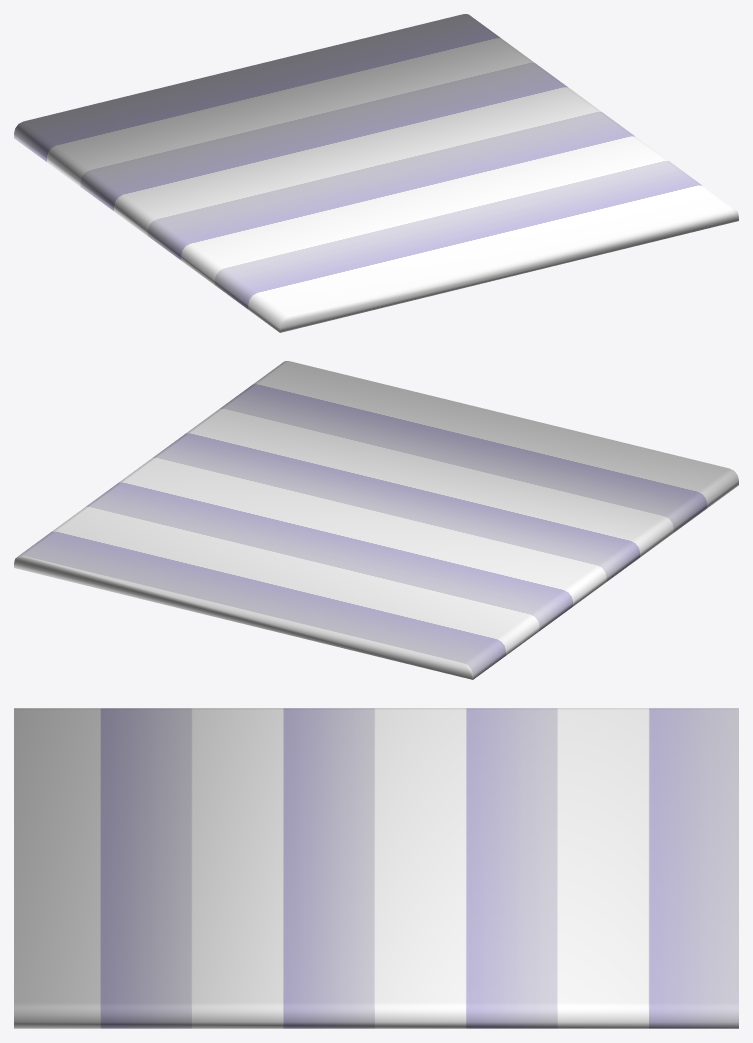
The model's file is Floor.fbx.
3 renders of one model, top to bottom at view 1: azimuth 30°, elevation 25°; view 2: azimuth 150°, elevation 25°; view 3: azimuth 270°, elevation 25°, orthographic. The views are drawn at different scales.
Visible parts, largest first — view 1: Cube; view 2: Cube; view 3: Cube.
Part boxes in pixels (x1,y1,x2,y2): Cube: [14, 14, 738, 332]; Cube: [14, 361, 738, 679]; Cube: [14, 708, 738, 1028].
Size of the model in its own units: 1000 by 30.15 by 1004.
Materials: 1 (1 with a texture image).
